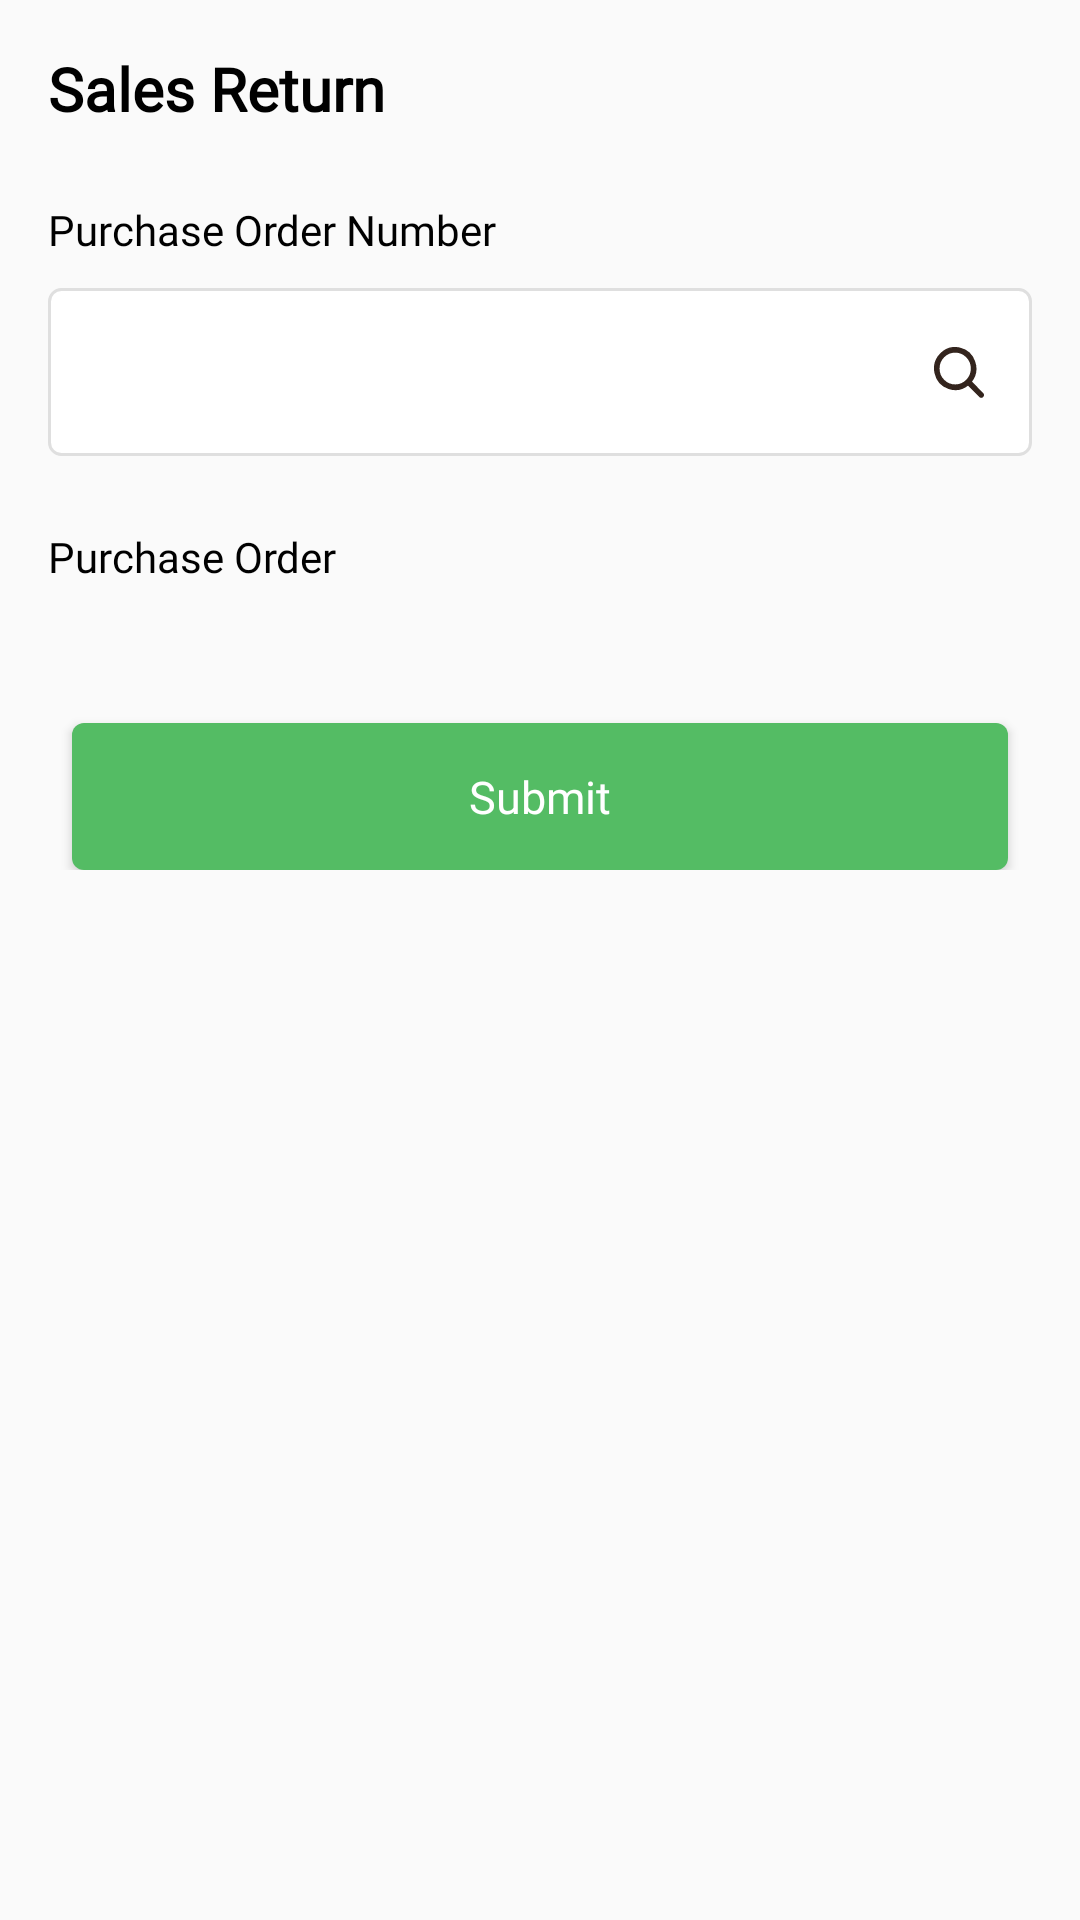

Icon bounding boxes for this 1080w x 1920h phone screenshot, format (x1, y1, x2, y2):
search: (934, 347, 984, 398)
